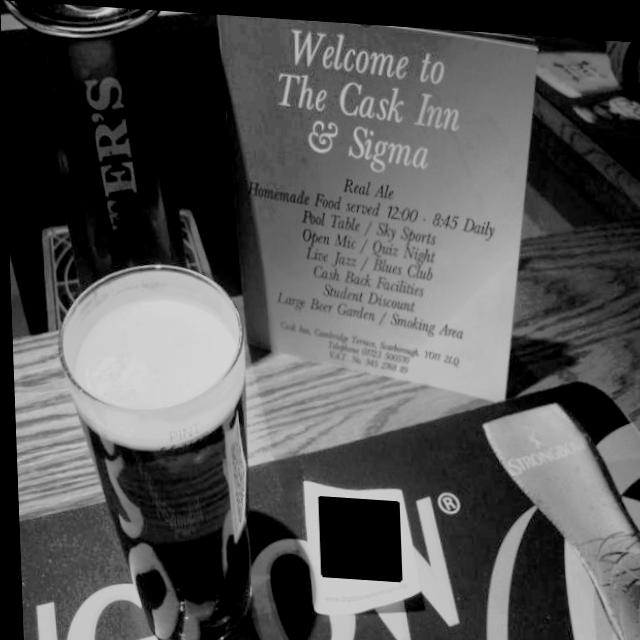qr_code: (315, 492, 397, 576)
